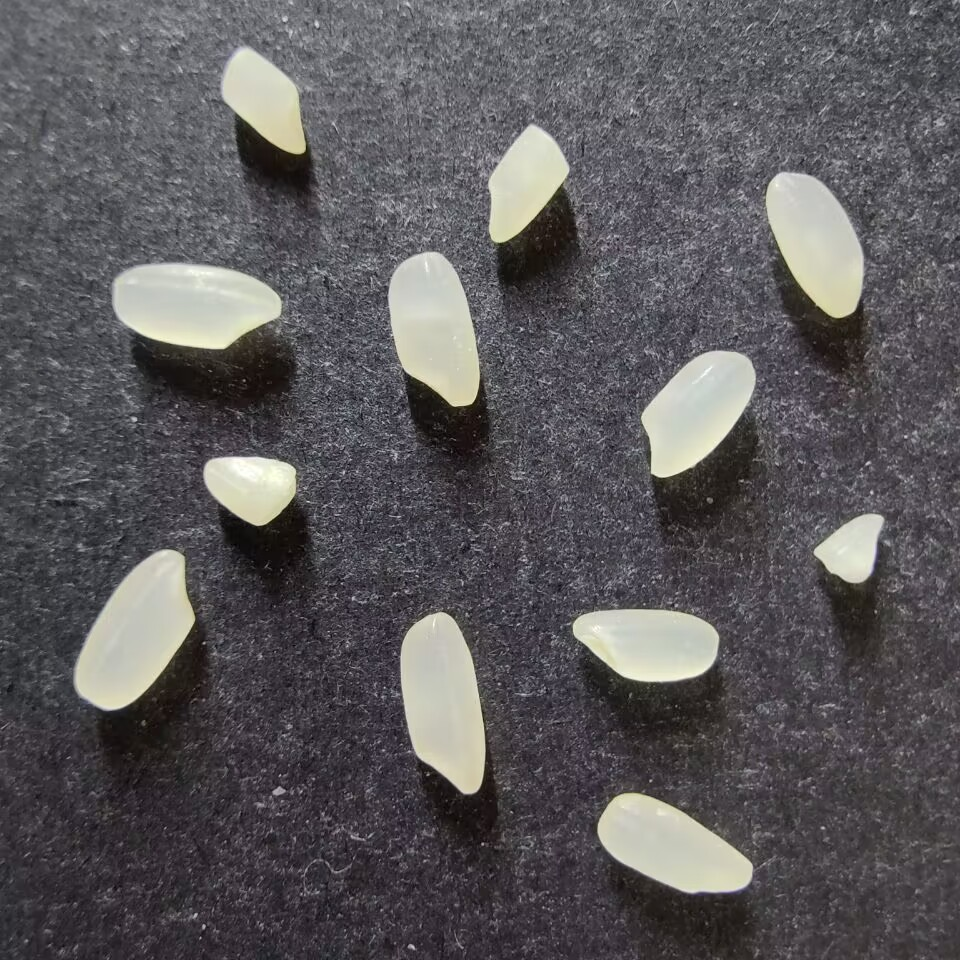broken: (486, 123, 570, 243), (220, 46, 307, 155), (202, 455, 296, 527), (812, 512, 883, 584)
rice: (73, 549, 195, 710), (596, 791, 753, 894), (399, 611, 486, 795), (640, 350, 756, 478), (112, 262, 282, 349), (765, 171, 865, 318), (387, 251, 479, 407), (572, 608, 719, 682)
